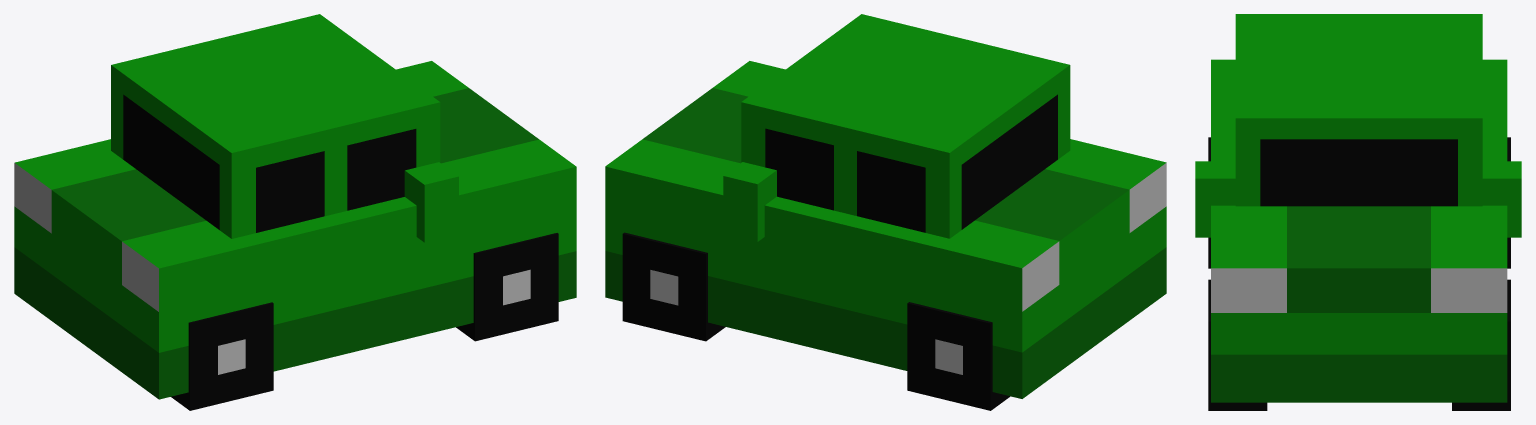
The model's file is CarUnity.fbx.
3 views of the same model, side by side, from view 1: azimuth 30°, elevation 25°; view 2: azimuth 150°, elevation 25°; view 3: azimuth 270°, elevation 25° (orthographic). The views are drawn at different scales.
Visible parts, largest first — view 1: pCube1, pCube2, pCube9, pCube3, pCube7; view 2: pCube1, pCube2, pCube11, pCube10, pCube8; view 3: pCube1, pCube2, pCube7, pCube8, pCube11, pCube9.
Part boxes in pixels (box(x1,y1,x2,y2)): pCube1: box(14, 61, 576, 399); pCube2: box(111, 14, 440, 238); pCube9: box(456, 233, 558, 341); pCube3: box(171, 302, 273, 410); pCube7: box(404, 162, 458, 242); pCube1: box(605, 61, 1166, 398); pCube2: box(741, 14, 1070, 238); pCube11: box(622, 232, 725, 341); pCube10: box(907, 302, 1010, 410); pCube8: box(723, 162, 776, 241); pCube1: box(1211, 59, 1507, 402); pCube2: box(1235, 14, 1482, 206); pCube7: box(1195, 161, 1235, 237); pCube8: box(1482, 161, 1521, 237); pCube11: box(1452, 279, 1510, 410); pCube9: box(1208, 279, 1267, 410).
Bounding box in the file's own units: 5 × 2.68 × 3.31.
